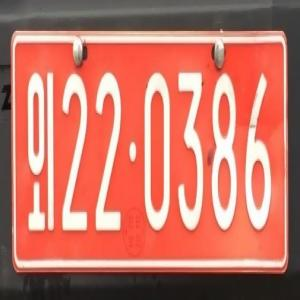Plate: (4, 17, 294, 287)
